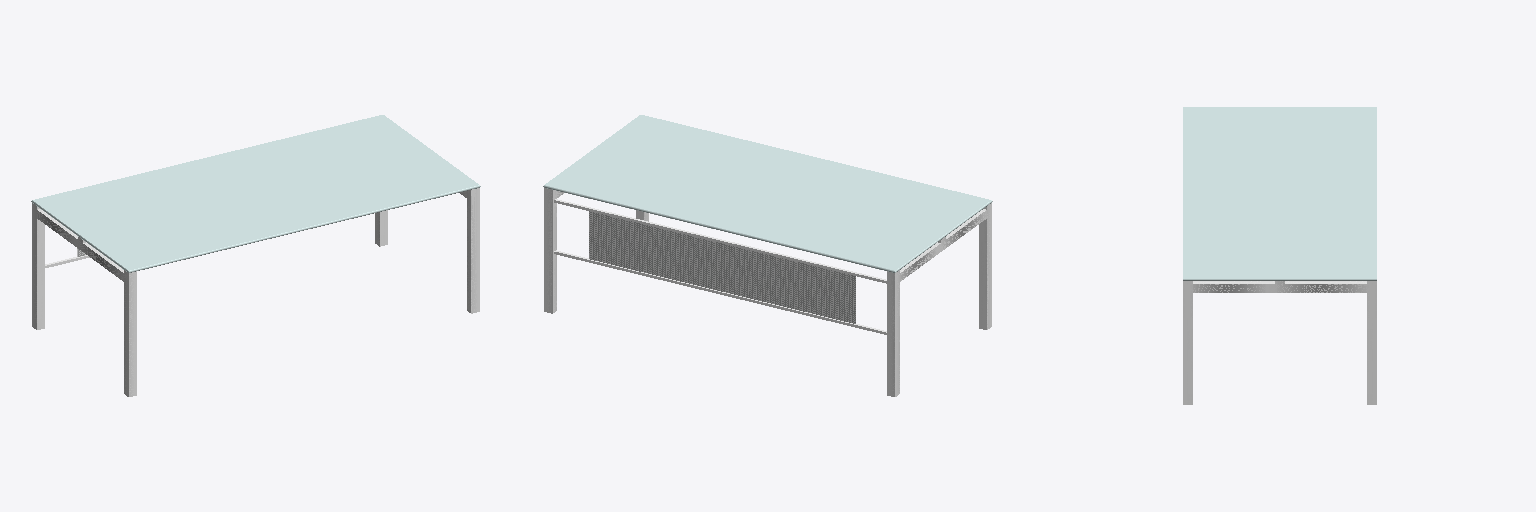
The picture shows the model from 3 angles: view 1: azimuth 30°, elevation 25°; view 2: azimuth 150°, elevation 25°; view 3: azimuth 270°, elevation 25°; orthographic projection.
Parts seen in each view (by area): view 1: mesh10_mesh10-geometry, mesh7_mesh7-geometry, mesh8_mesh8-geometry, mesh5_mesh5-geometry; view 2: mesh10_mesh10-geometry, mesh2_mesh2-geometry, mesh7_mesh7-geometry, mesh4_mesh4-geometry, mesh8_mesh8-geometry, mesh3_mesh3-geometry, mesh1_mesh1-geometry; view 3: mesh10_mesh10-geometry, mesh4_mesh4-geometry, mesh5_mesh5-geometry.
Boxes of the visible parts, x1=… form: mesh10_mesh10-geometry: x1=31, y1=115, x2=480, y2=272; mesh7_mesh7-geometry: x1=32, y1=203, x2=123, y2=329; mesh8_mesh8-geometry: x1=124, y1=270, x2=136, y2=396; mesh5_mesh5-geometry: x1=467, y1=188, x2=479, y2=313; mesh10_mesh10-geometry: x1=543, y1=115, x2=992, y2=272; mesh2_mesh2-geometry: x1=589, y1=211, x2=855, y2=323; mesh7_mesh7-geometry: x1=887, y1=209, x2=986, y2=396; mesh4_mesh4-geometry: x1=544, y1=188, x2=563, y2=313; mesh8_mesh8-geometry: x1=979, y1=203, x2=991, y2=329; mesh3_mesh3-geometry: x1=554, y1=199, x2=886, y2=283; mesh1_mesh1-geometry: x1=554, y1=250, x2=886, y2=334; mesh10_mesh10-geometry: x1=1183, y1=107, x2=1376, y2=280; mesh4_mesh4-geometry: x1=1193, y1=281, x2=1376, y2=404; mesh5_mesh5-geometry: x1=1183, y1=281, x2=1192, y2=404.
Bounding box in the file's own units: 0.8617 × 0.2966 × 0.4116.
7 materials, 2 textured.